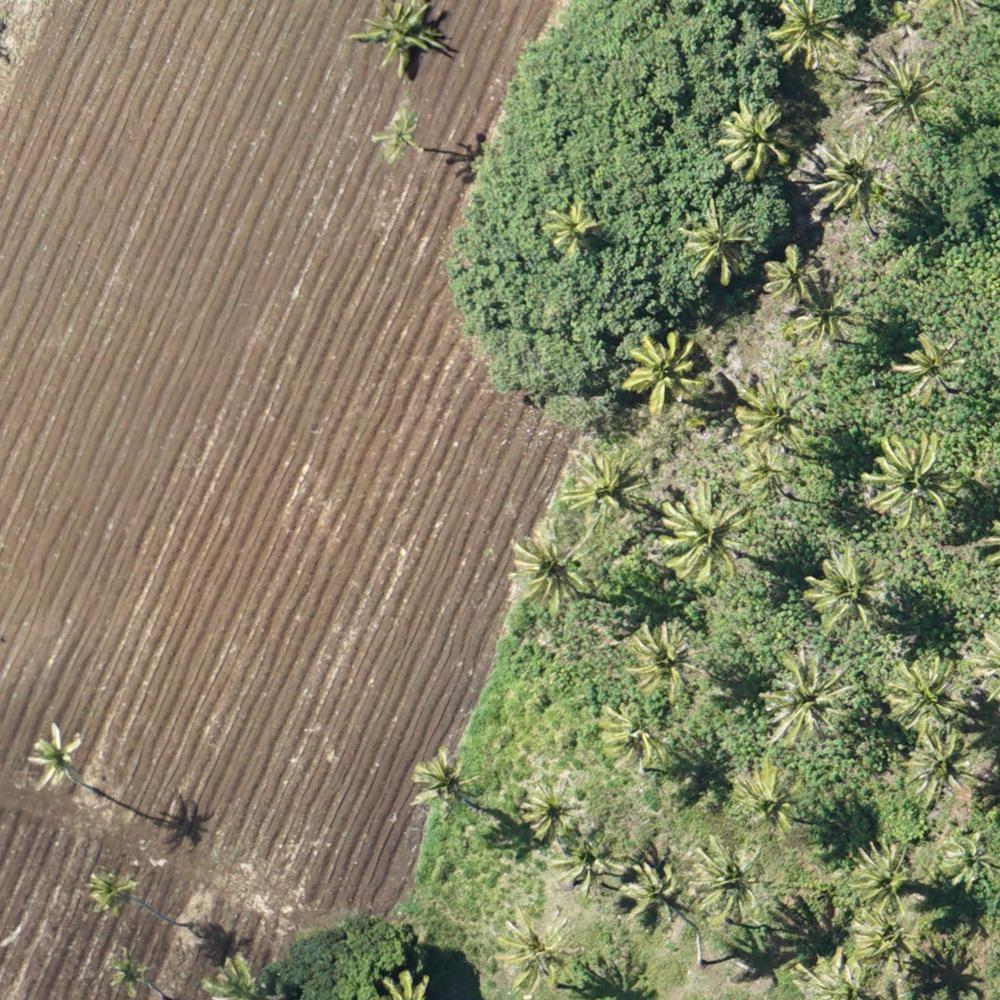Palm: (762, 655, 857, 741), (866, 434, 952, 528), (659, 486, 743, 579), (859, 51, 945, 141), (807, 548, 888, 635), (509, 524, 590, 611), (562, 440, 641, 527), (355, 2, 447, 75), (811, 141, 887, 227), (887, 651, 969, 730), (495, 911, 579, 988), (732, 374, 815, 451), (628, 330, 702, 415), (692, 841, 768, 922), (684, 200, 756, 280), (771, 1, 850, 73), (718, 100, 789, 179), (623, 626, 705, 692), (728, 765, 802, 838), (845, 842, 918, 914), (622, 858, 689, 927), (596, 706, 666, 772), (899, 336, 963, 405), (906, 736, 970, 804), (846, 906, 914, 966), (25, 727, 86, 788), (412, 748, 472, 808), (553, 844, 618, 898), (521, 781, 582, 838), (793, 290, 856, 342), (546, 201, 598, 256), (764, 246, 815, 300), (87, 864, 134, 921), (100, 949, 153, 994), (743, 446, 788, 498)
